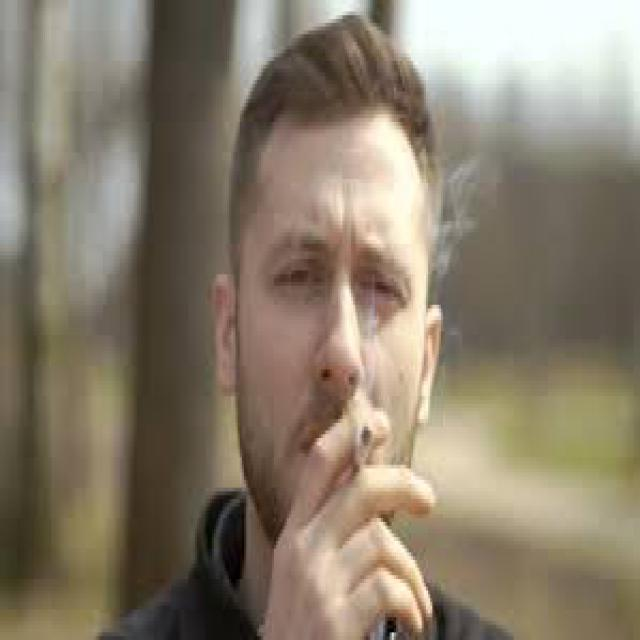cigarette: (349, 426, 378, 474)
